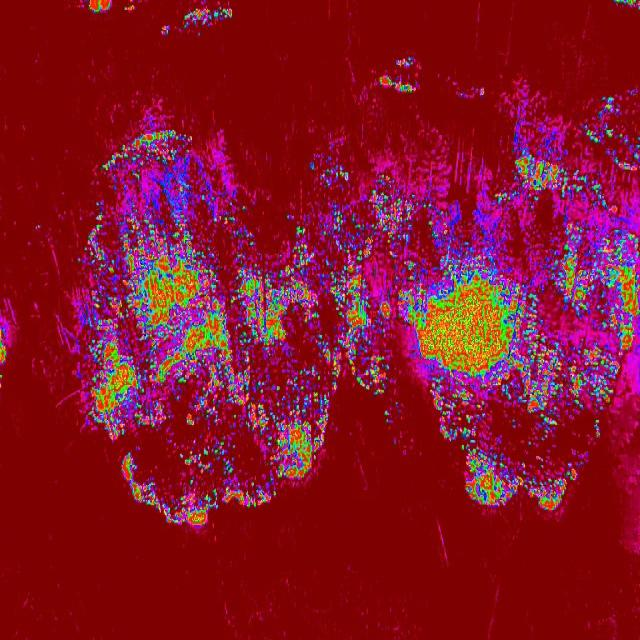fire: (72, 130, 262, 526), (336, 168, 640, 402), (262, 149, 336, 490), (503, 88, 640, 168), (435, 403, 600, 453), (462, 454, 578, 511), (378, 52, 431, 102), (159, 8, 234, 43), (0, 302, 12, 386)
